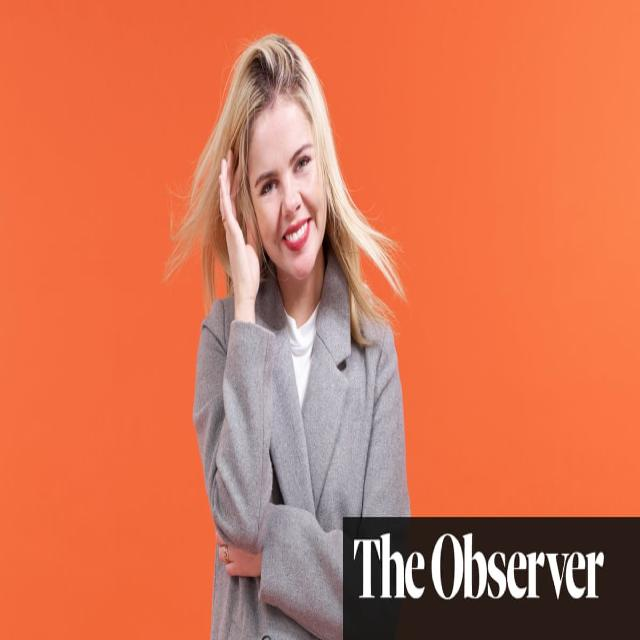human: (184, 34, 419, 638)
